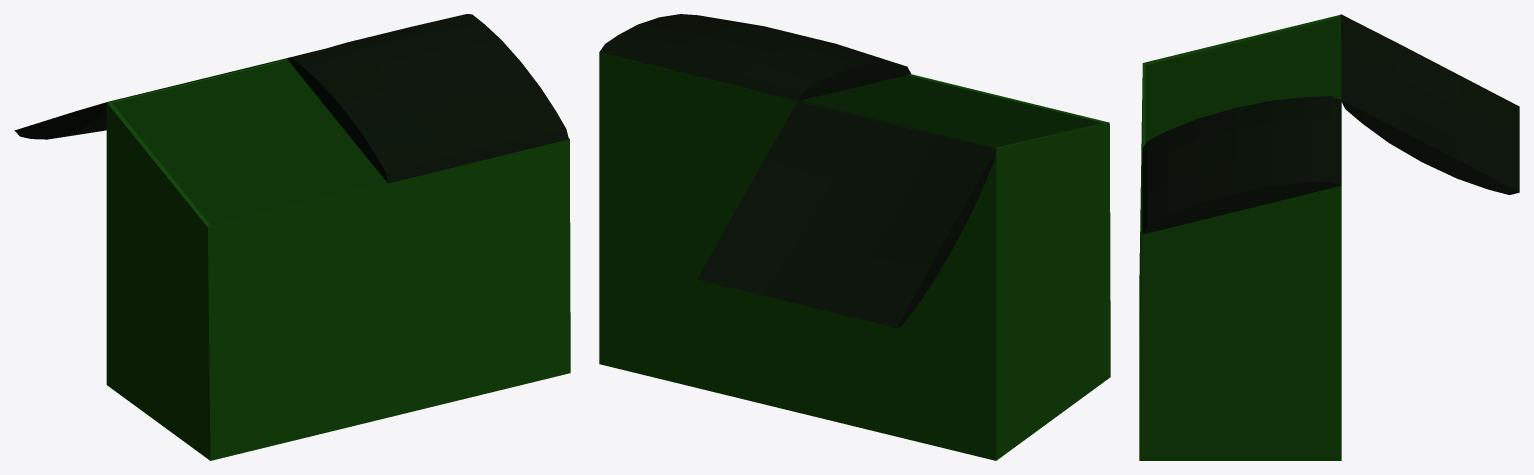
File: dumpster_half_open.fbx
3 renders of one model, left to right at view 1: azimuth 30°, elevation 25°; view 2: azimuth 150°, elevation 25°; view 3: azimuth 270°, elevation 25°, orthographic. The views are drawn at different scales.
Visible parts, largest first — view 1: dumpster, dumpster.002, dumpster.003; view 2: dumpster, dumpster.003, dumpster.002; view 3: dumpster, dumpster.002, dumpster.003.
Part boxes in pixels (left/top/right/bottom): dumpster: left=106, top=58, right=570, bottom=460; dumpster.002: left=287, top=14, right=568, bottom=183; dumpster.003: left=14, top=58, right=287, bottom=139; dumpster: left=599, top=52, right=1110, bottom=460; dumpster.003: left=697, top=100, right=996, bottom=327; dumpster.002: left=599, top=14, right=910, bottom=100; dumpster: left=1139, top=15, right=1341, bottom=460; dumpster.002: left=1142, top=96, right=1341, bottom=234; dumpster.003: left=1340, top=14, right=1519, bottom=194.
Bounding box in the file's own units: 804 × 617 × 751.
